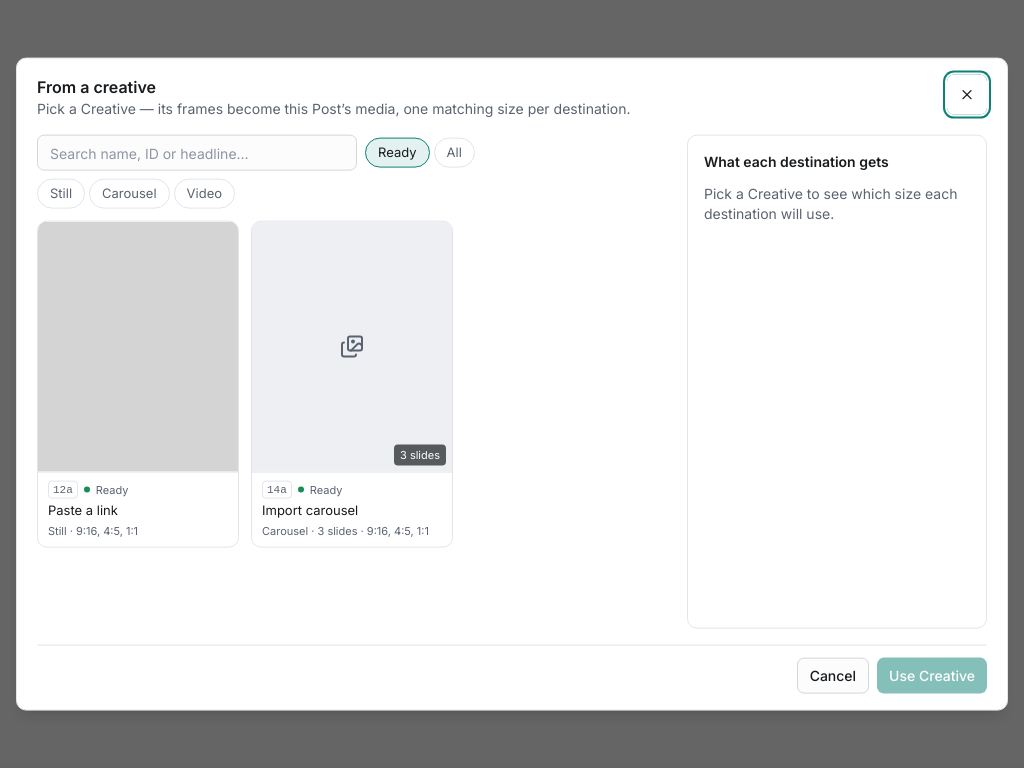
Test: AttachCreativeDialog › shows an error and keeps the dialog open when attach fails
Click the button with aria-label "Choose Creative 12a" at point(138, 384), box [37,220,239,548]
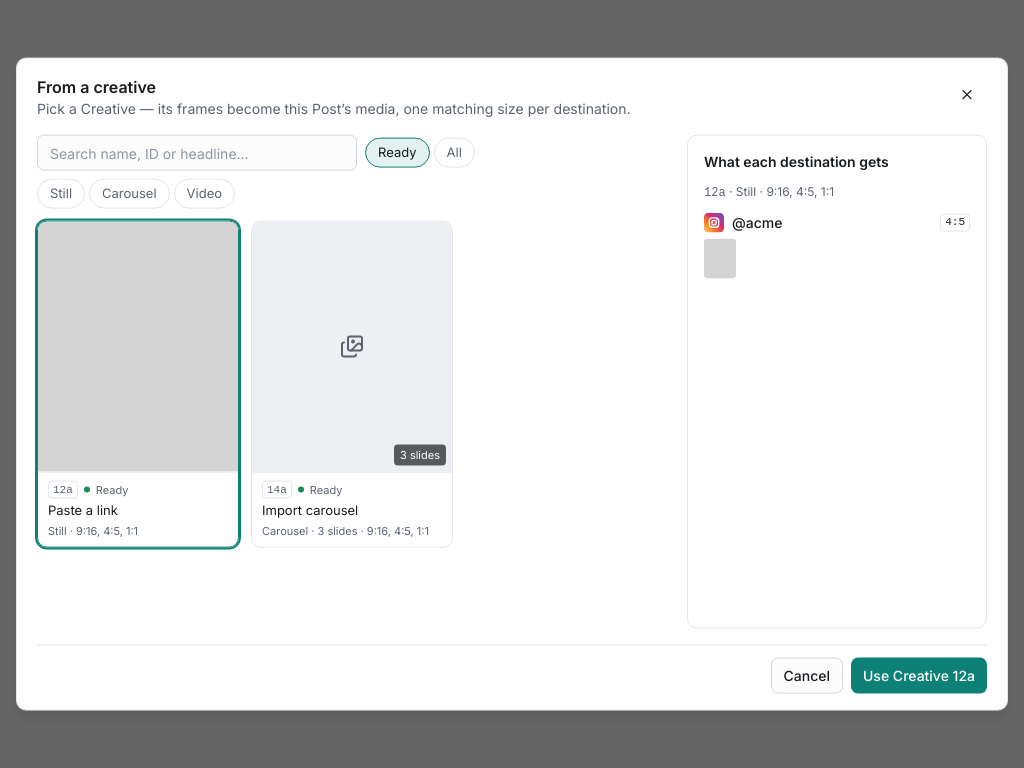
Click the button "Use Creative 12a" at point(919, 675), box [851,657,987,693]
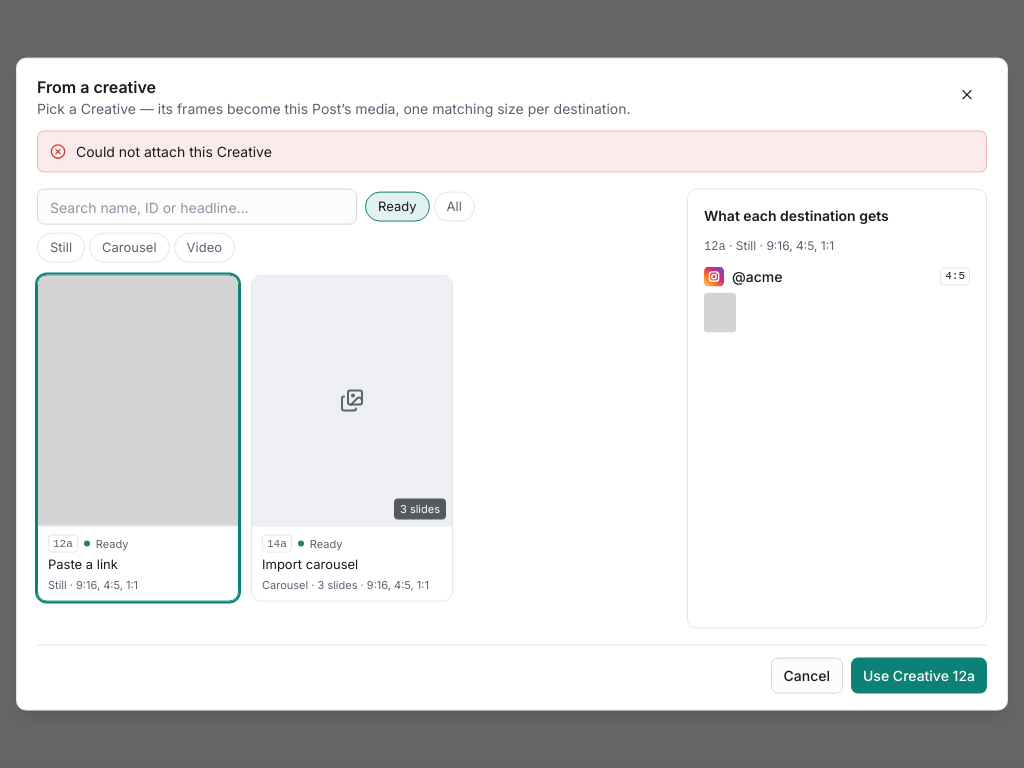
Expected: the message "Could not attach this Creative" is shown, [37,131,987,173]
